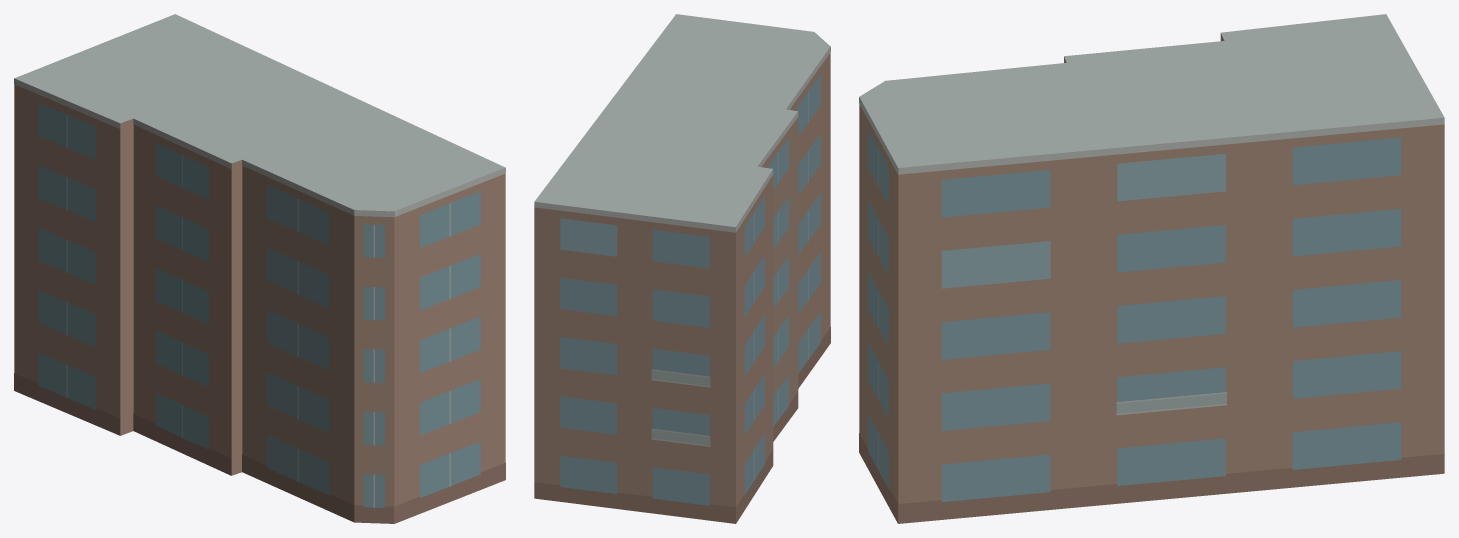
File: survey-upis-32568199.glb
3 views of the same model, side by side, from view 1: azimuth 30°, elevation 25°; view 2: azimuth 150°, elevation 25°; view 3: azimuth 270°, elevation 25° (orthographic). The views are drawn at different scales.
Visible parts, largest first — view 1: survey-upis-32568199.tmp; view 2: survey-upis-32568199.tmp; view 3: survey-upis-32568199.tmp.
Part boxes in pixels (<box>): survey-upis-32568199.tmp: <box>14,14,505,523</box>; survey-upis-32568199.tmp: <box>534,14,830,523</box>; survey-upis-32568199.tmp: <box>859,14,1444,523</box>.
Size of the model in its own units: 12.17 by 13.1 by 19.55.
